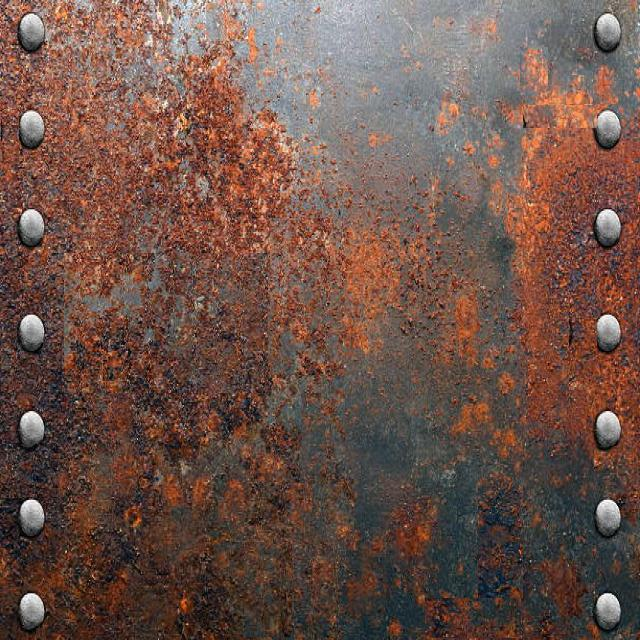Corrosion: (98, 2, 325, 364), (517, 129, 623, 478)
